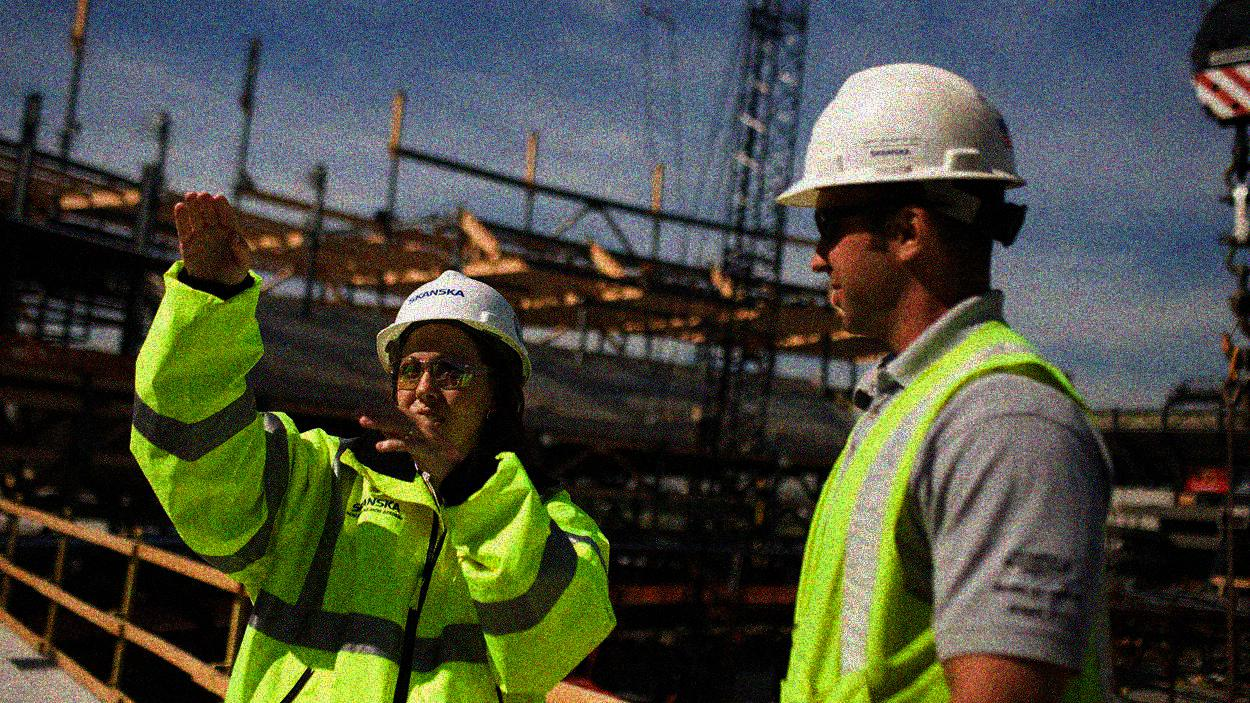helmet: (775, 60, 1026, 324), (379, 267, 533, 445)
